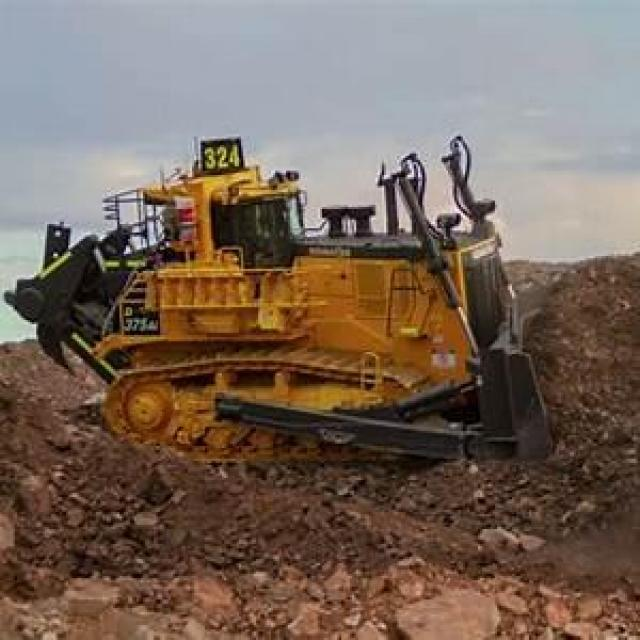Bulldozer: (12, 124, 586, 531)
